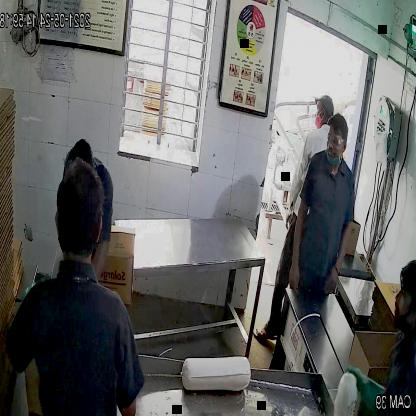goggles: (324, 132, 348, 150)
